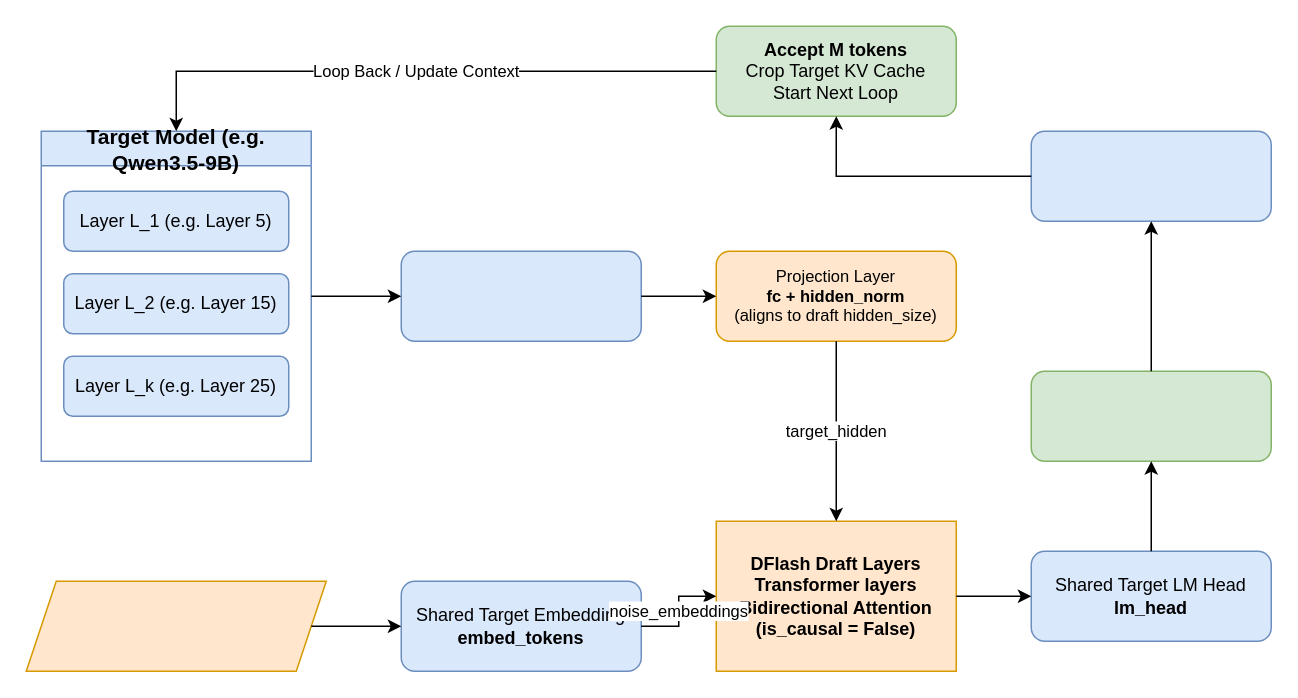
This 1298x698 diagram has some shape labels left out. The centre of each missing label's shape, as x and y in pixels:
Context Feature Extraction extract_context_feature() Concat along dim=-1: the point at 520,295
Draft Input Block [T_0, Mask, Mask, Mask]: the point at 175,625
Parallel Block Tokens [Token_1, Token_2, Token_3] (One-shot sample): the point at 1150,415
Target Verification Runs Qwen3.5 on Draft Block Check tokens in parallel: the point at 1150,175
